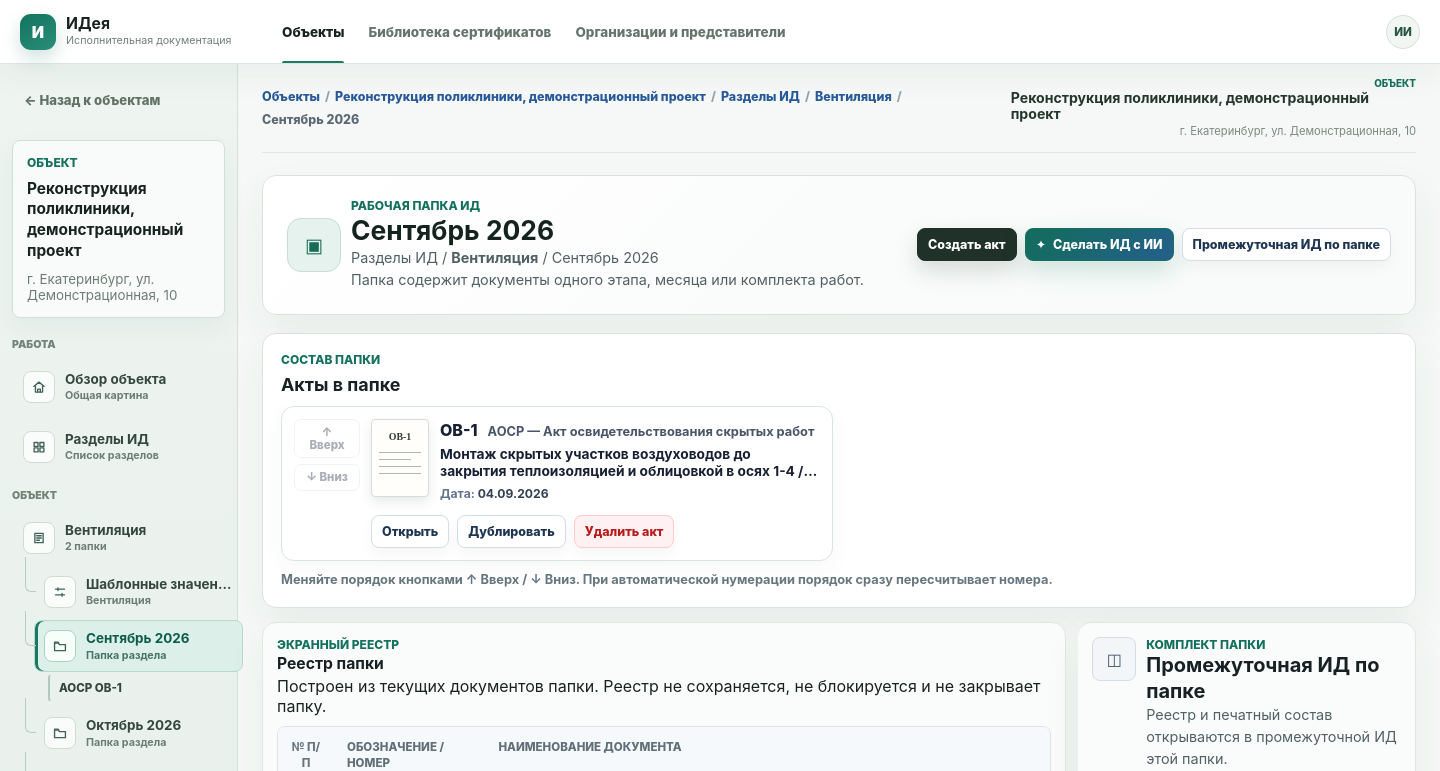
application routes › clears folder-owned create UI when Back changes the folder owner
What coordinates should you click on to do the following:
click the button "Создать акт"
I would click on:
 (967, 245)
Its box is [917,228,1017,261].
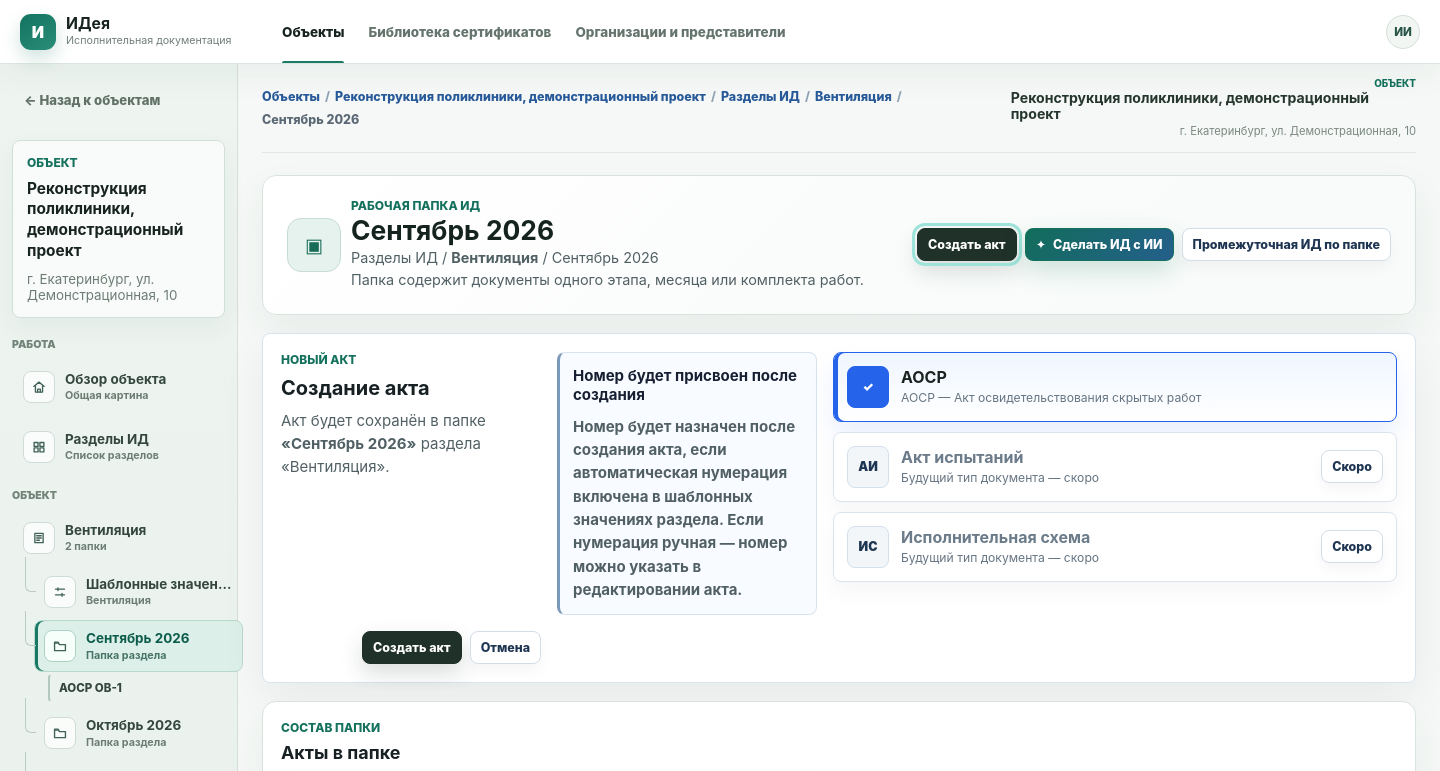
Result: the dialog "Создание акта" is shown at [262,333,1416,683]
What coordinates should you click on to do the following:
click the link with aria-label "Открыть папку Октябрь 2026"
I would click on:
 (113, 733)
Its box is [44,717,181,749].
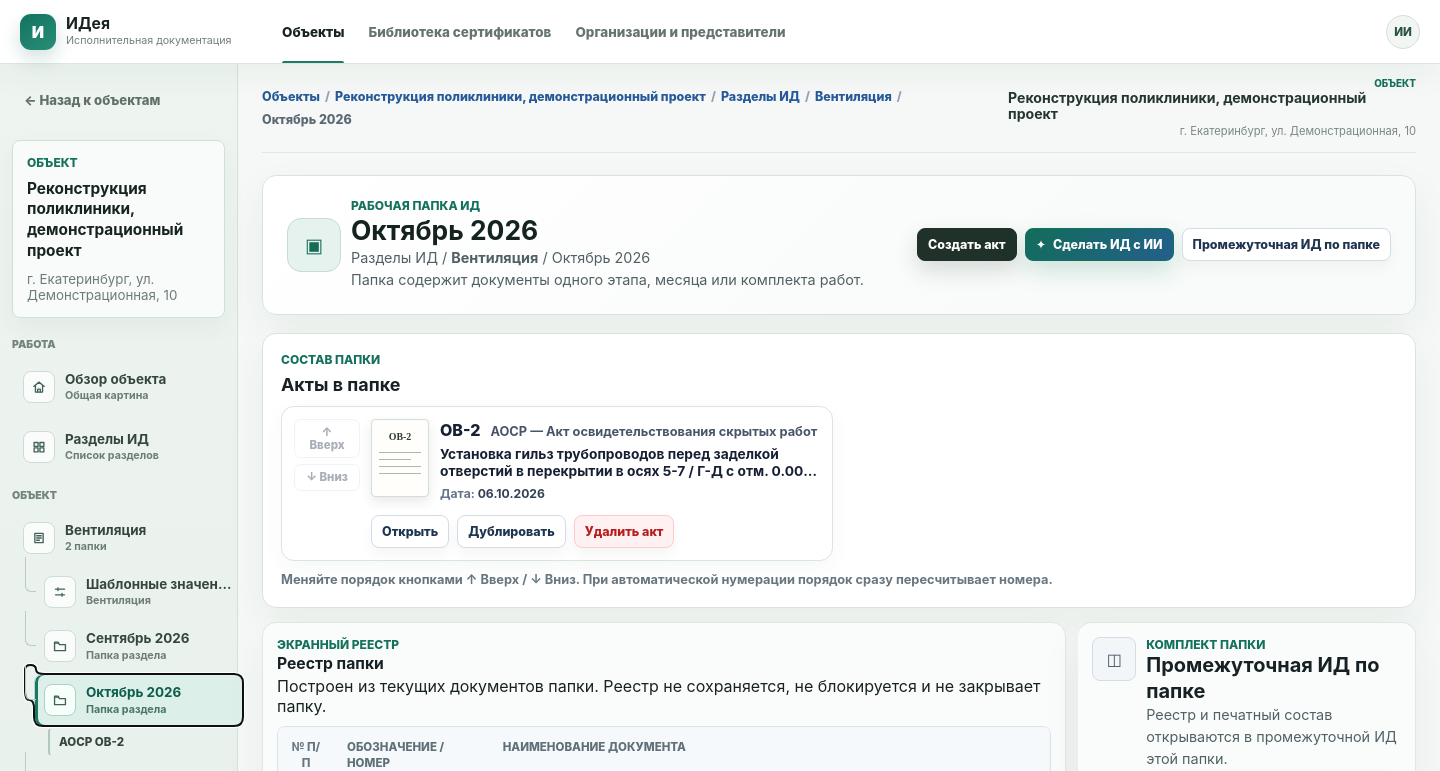
Result: the heading "Создание акта" is gone
